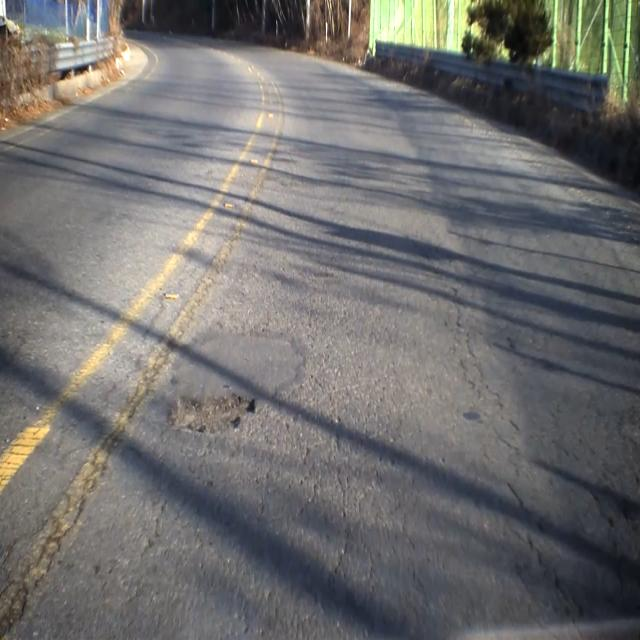Pothole: (168, 390, 260, 446)
